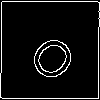O: (25, 25, 86, 86)
